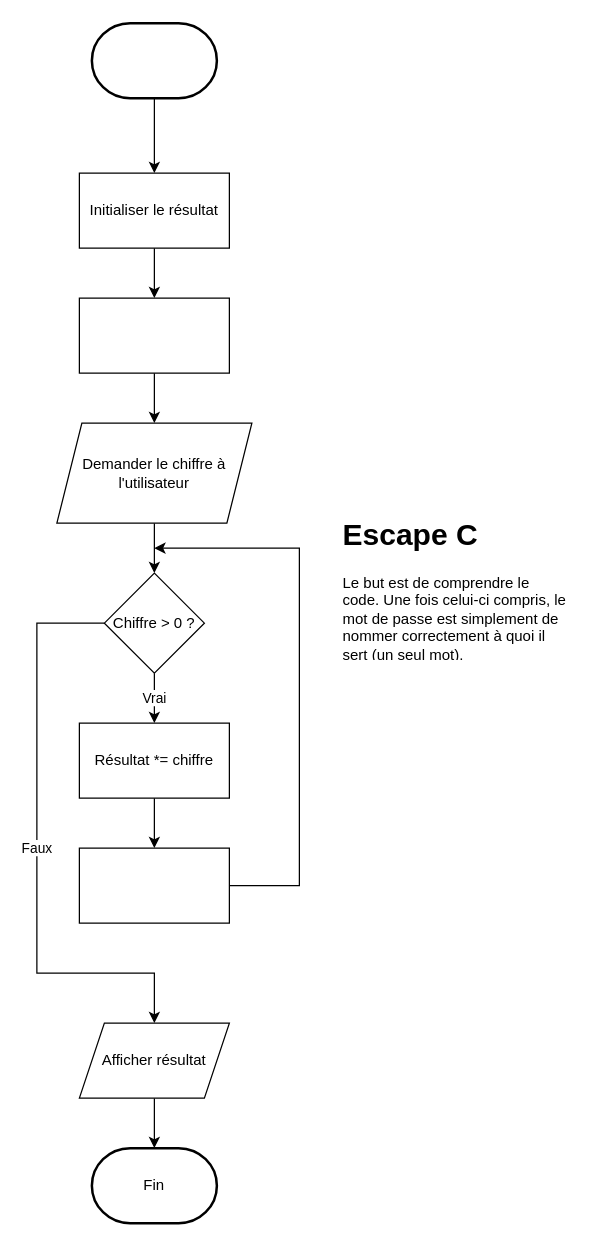
Image size: 595x1245. Some labels were removed from this diagram. Each missing label, with the centre of its shape:
Début: the point at 154,60
Déclarer le chiffre: the point at 153,335
Décrémenter chiffre: the point at 153,885
